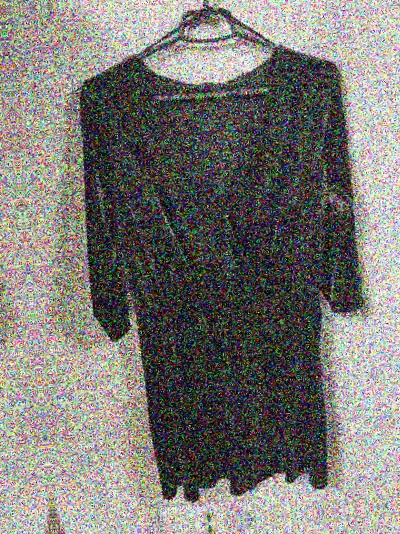Dress: (43, 18, 400, 495), (0, 60, 14, 534)
